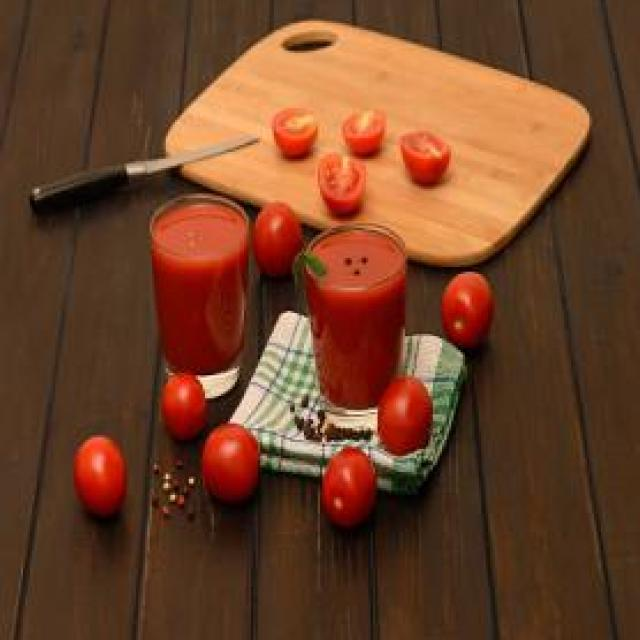knife: (24, 131, 270, 222)
